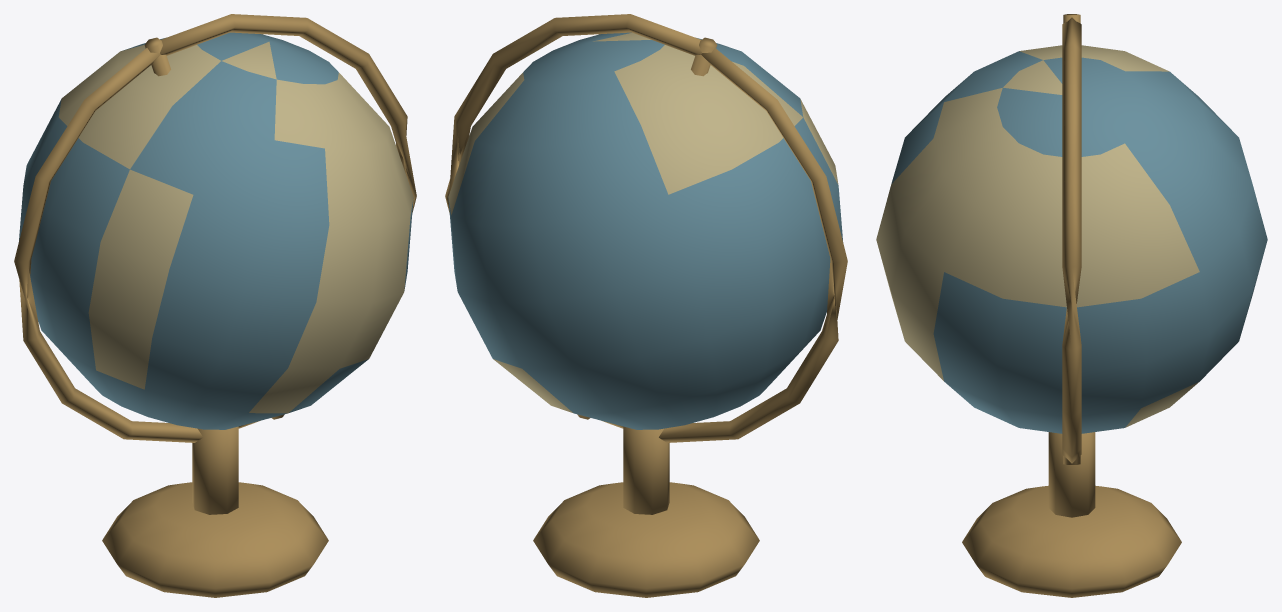
The model's file is globe.glb.
3 views of the same model, side by side, from view 1: azimuth 30°, elevation 25°; view 2: azimuth 150°, elevation 25°; view 3: azimuth 270°, elevation 25° (orthographic). The views are drawn at different scales.
Visible parts, largest first — view 1: Body; view 2: Body; view 3: Body.
Part boxes in pixels (<box>): Body: <box>14,14,416,597</box>; Body: <box>445,14,847,597</box>; Body: <box>876,14,1267,597</box>.
Size of the model in its own units: 0.3689 by 0.4694 by 0.32.
